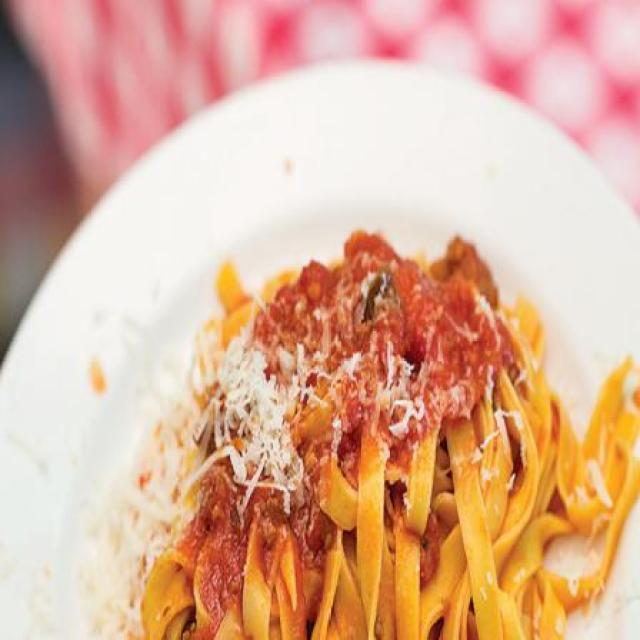Pasta: (125, 114, 640, 630)
